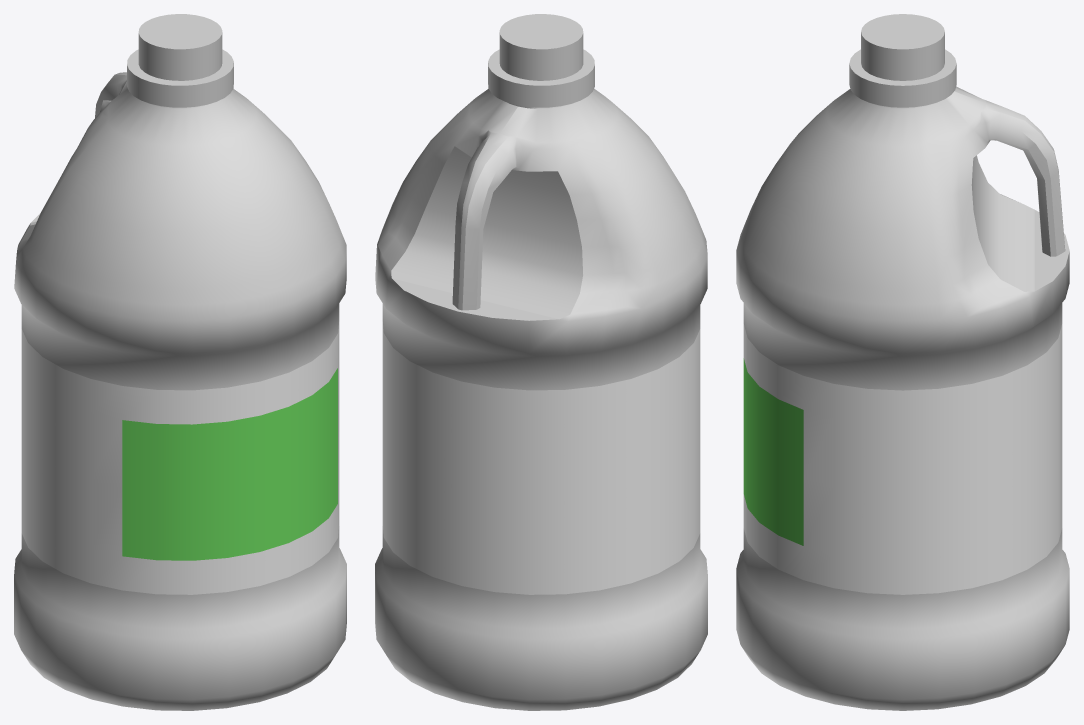
The model's file is chemical bottle container - green.fbx.
3 renders of one model, left to right at view 1: azimuth 30°, elevation 25°; view 2: azimuth 150°, elevation 25°; view 3: azimuth 270°, elevation 25°, orthographic.
Visible parts, largest first — view 1: 柱体, 柱体.001, green; view 2: 柱体, 柱体.001; view 3: 柱体, 柱体.001, green.
Part boxes in pixels (x1=…): 柱体: x1=14, y1=14, x2=346, y2=710; 柱体.001: x1=21, y1=322, x2=339, y2=594; green: x1=122, y1=368, x2=337, y2=560; 柱体: x1=375, y1=14, x2=707, y2=710; 柱体.001: x1=382, y1=322, x2=700, y2=594; 柱体: x1=736, y1=14, x2=1069, y2=710; 柱体.001: x1=743, y1=324, x2=1062, y2=594; green: x1=743, y1=358, x2=803, y2=545.
Size of the model in its own units: 308 by 632 by 308.
